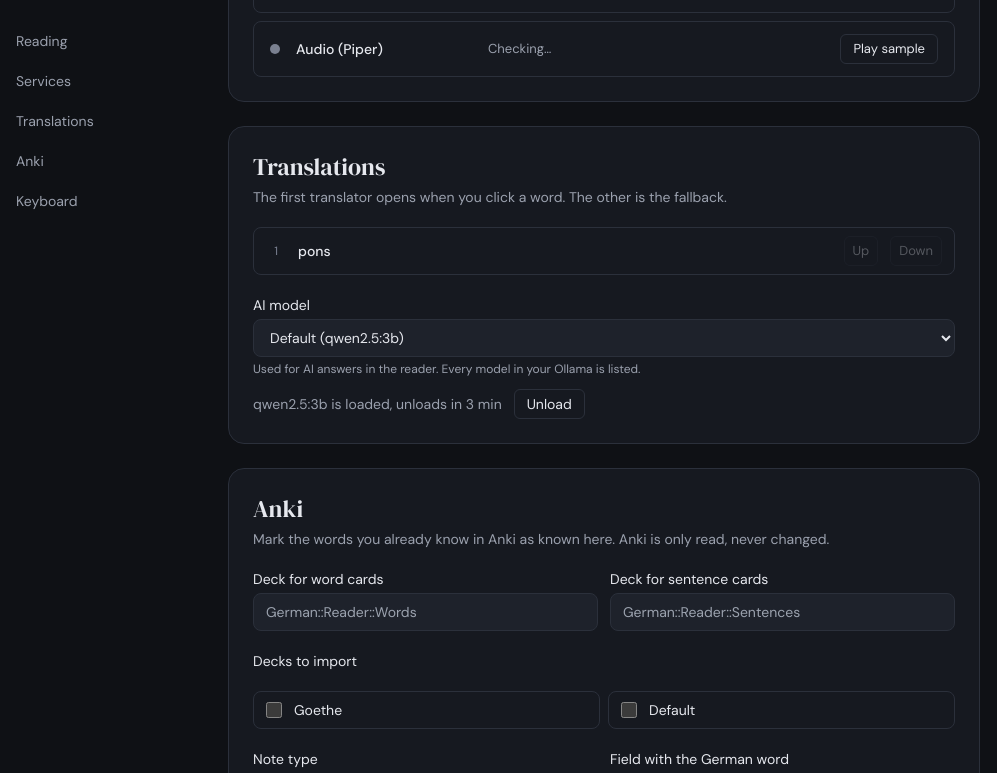
SettingsPage › does not blame Ollama for an unload error while it is running
(page scrolled)
Click the button "Unload". click: (549, 404)
box: [514,389,585,419]
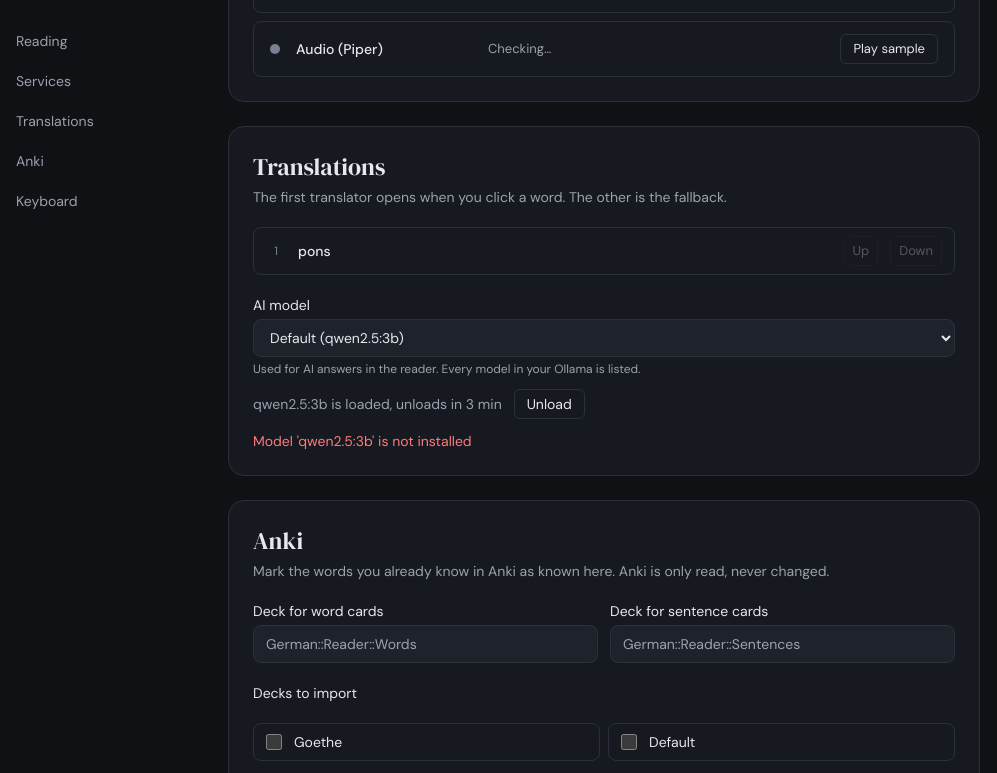
Check: the text "Model 'qwen2.5:3b' is not installed" is shown, box [253,432,472,450]
